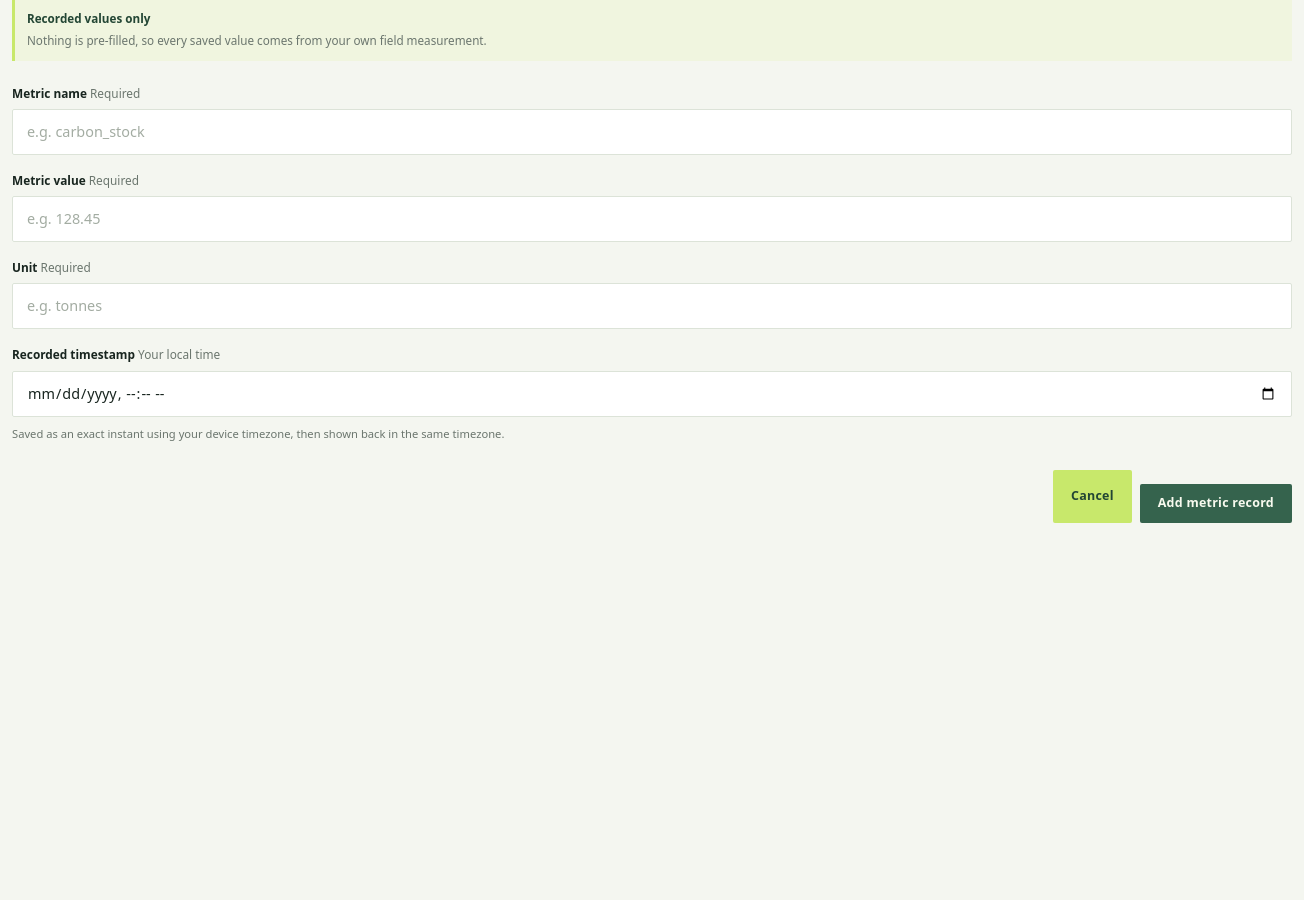
Test case: MetricForm validation › shows field-level errors when an empty form is submitted
Click the button "Add metric record": {"x": 1216, "y": 504} [1140,484,1292,523]
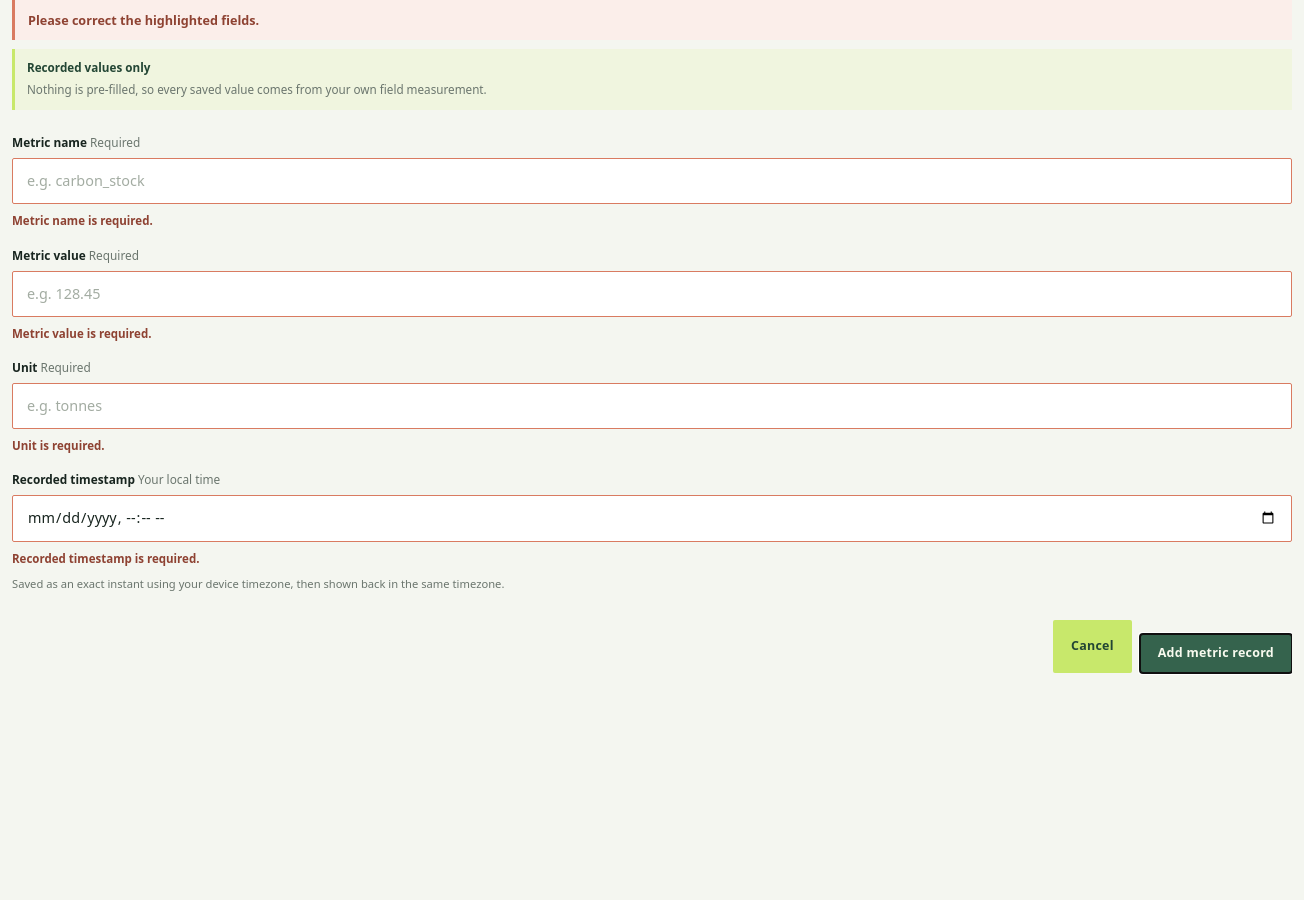
Expected: the text "Metric name is required." is shown, [12,213,153,228]
Expected: the text "Metric value is required." is shown, [12,326,152,341]
Expected: the text "Unit is required." is shown, [12,438,105,453]
